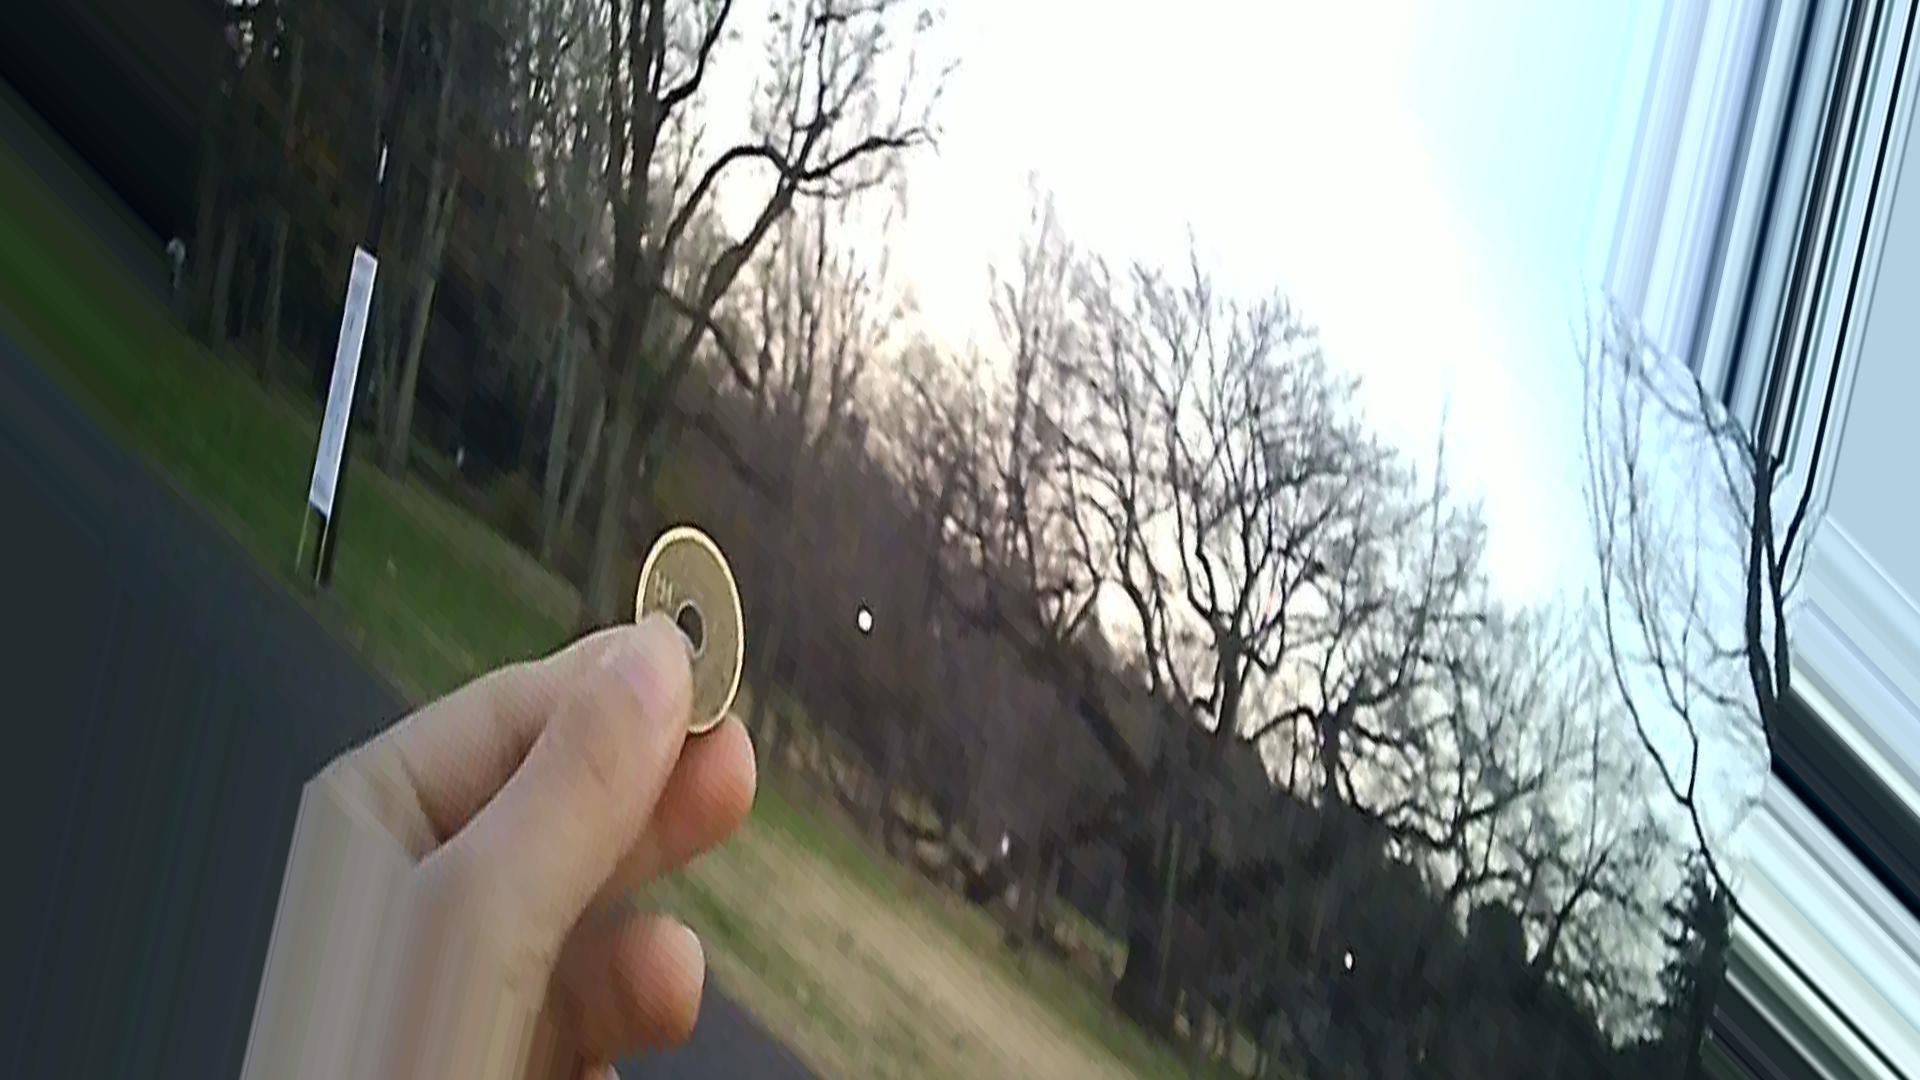5 Yen: (622, 524, 769, 781)
